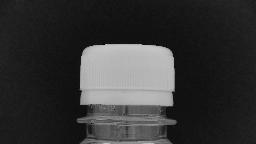Loose Cap: (74, 84, 180, 130)
